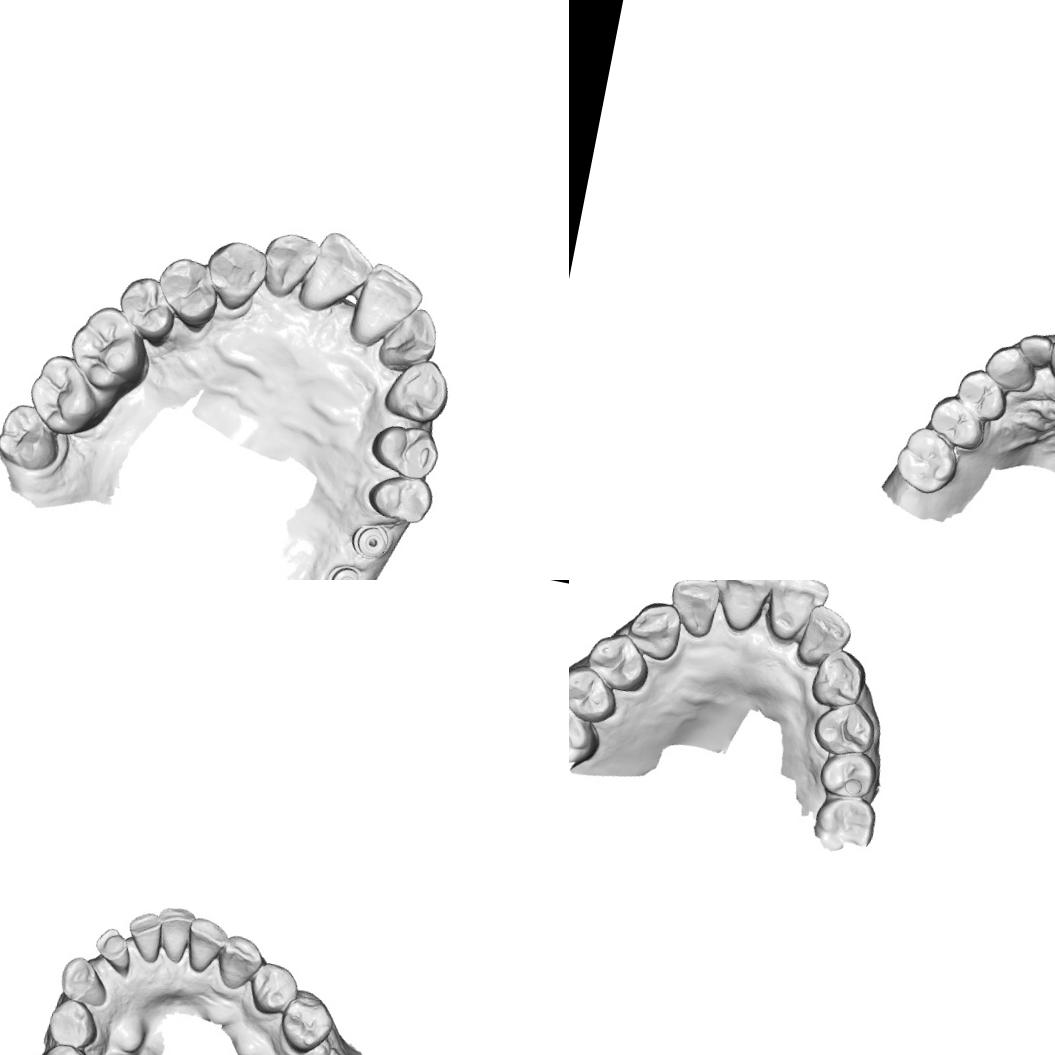canine: (198, 234, 272, 318), (379, 350, 456, 427), (807, 644, 870, 712), (623, 596, 685, 663), (980, 340, 1040, 396), (212, 932, 266, 994), (55, 952, 113, 1008)
implant: (346, 517, 396, 564), (323, 559, 369, 580)
incisor: (344, 256, 430, 356), (294, 225, 380, 324), (371, 300, 443, 378), (256, 224, 324, 304), (761, 580, 831, 646), (794, 601, 856, 672), (704, 580, 774, 635), (662, 580, 722, 640), (180, 914, 230, 977), (149, 902, 197, 966), (120, 907, 168, 964), (88, 924, 137, 978), (1012, 329, 1055, 371), (1045, 332, 1055, 387)
molar: (61, 298, 157, 400), (21, 348, 119, 444), (890, 420, 967, 498), (0, 396, 69, 477), (809, 790, 880, 858), (569, 693, 606, 771)
premolar: (148, 250, 228, 334), (109, 270, 184, 350), (364, 416, 445, 484), (581, 627, 654, 695), (361, 466, 438, 529), (810, 695, 880, 761), (924, 390, 991, 453), (275, 990, 337, 1055), (951, 364, 1013, 424), (816, 744, 880, 802), (569, 659, 623, 726), (244, 958, 302, 1018), (44, 994, 103, 1052), (32, 1038, 96, 1055)
